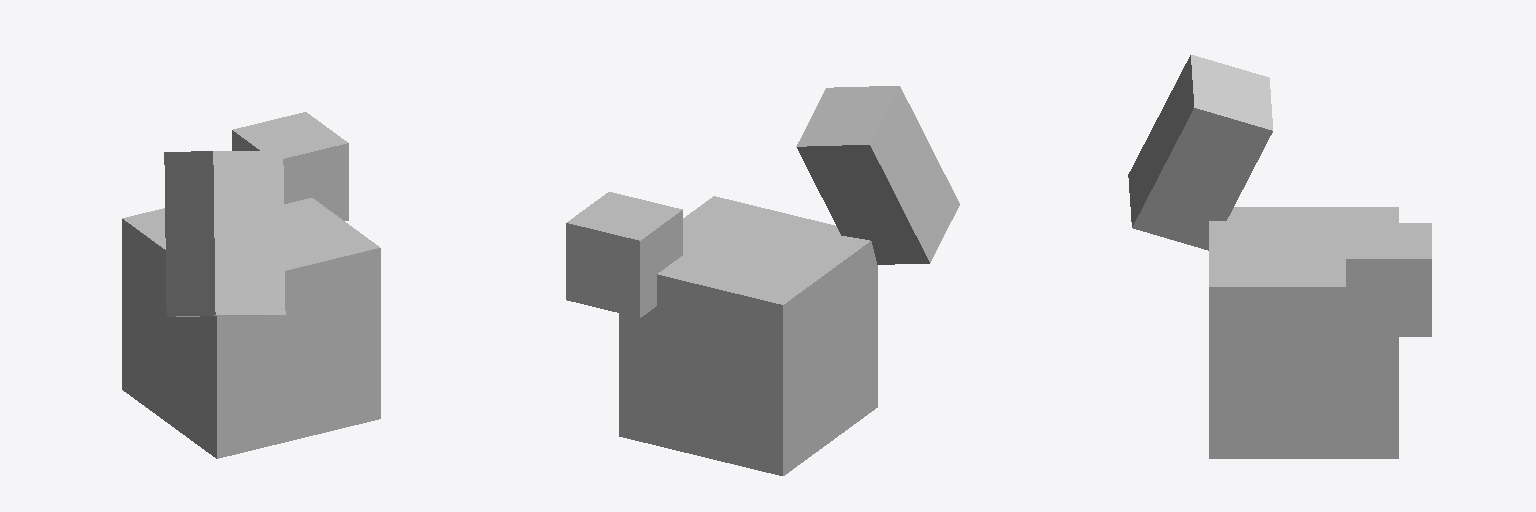
File: statue.obj
3 renders of one model, left to right at view 1: azimuth 30°, elevation 25°; view 2: azimuth 150°, elevation 25°; view 3: azimuth 270°, elevation 25°, orthographic.
Visible parts, largest first — view 1: Cube, Cube.002, Cube.001; view 2: Cube, Cube.002, Cube.001; view 3: Cube, Cube.002, Cube.001.
Boxes of the visible parts, box(x1,y1,x2,y2) form: Cube: box(122, 198, 380, 458); Cube.002: box(164, 150, 285, 316); Cube.001: box(232, 112, 348, 220); Cube: box(619, 196, 877, 475); Cube.002: box(796, 86, 959, 264); Cube.001: box(566, 192, 682, 317); Cube: box(1209, 207, 1398, 458); Cube.002: box(1128, 55, 1272, 250); Cube.001: box(1346, 223, 1431, 336).
Bounding box in the file's own units: 3.07 × 3.71 × 3.21.